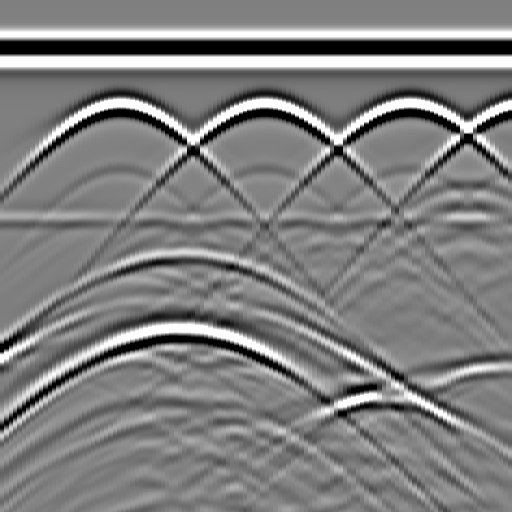grout_surface: (1, 207, 512, 237)
rebar: (98, 87, 138, 127), (243, 87, 283, 127), (387, 87, 427, 127), (502, 87, 512, 127)
rock_surface: (1, 298, 511, 399)
water_void: (148, 231, 208, 271)
